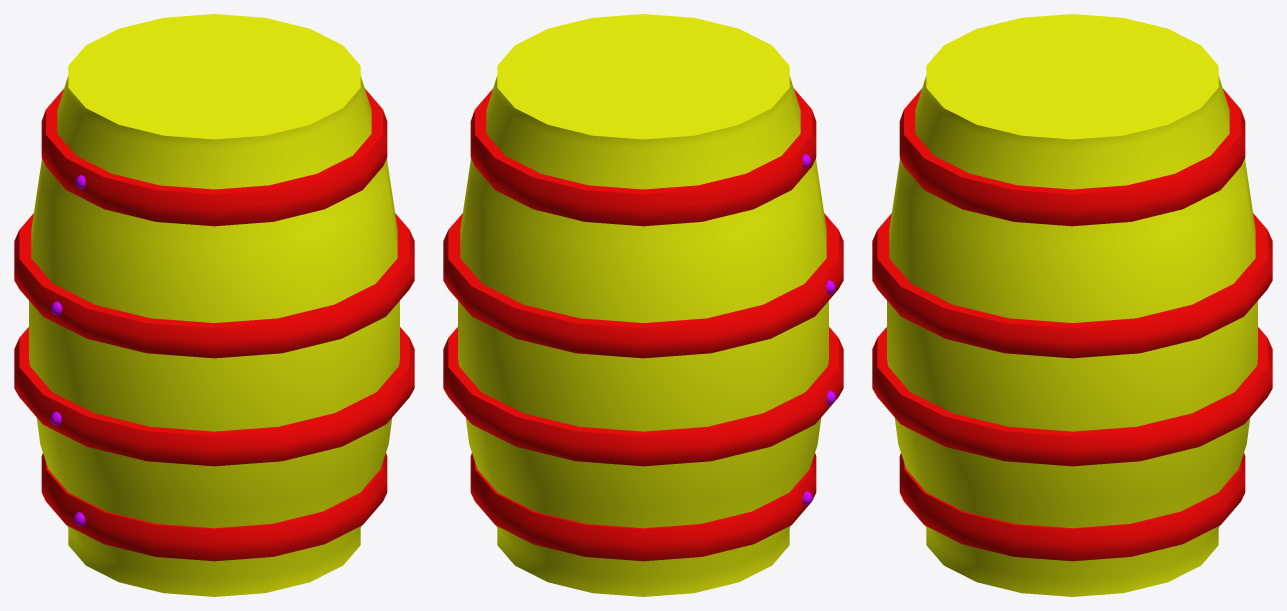
File: LP_Barrel.fbx
3 renders of one model, left to right at view 1: azimuth 30°, elevation 25°; view 2: azimuth 150°, elevation 25°; view 3: azimuth 270°, elevation 25°, orthographic.
Visible parts, largest first — view 1: LP_Barrel, LP_LoopHolder, rivots 004; view 2: LP_Barrel, LP_LoopHolder; view 3: LP_Barrel, LP_LoopHolder.
Part boxes in pixels (x1,y1,x2,y2): LP_Barrel: (29,14,399,596); LP_LoopHolder: (14,89,414,561); rivots 004: (50,175,85,525); LP_Barrel: (458,14,828,596); LP_LoopHolder: (443,89,843,561); LP_Barrel: (887,14,1257,596); LP_LoopHolder: (872,89,1272,561).
Bounding box in the file's own units: 91.6 × 113 × 89.87.
